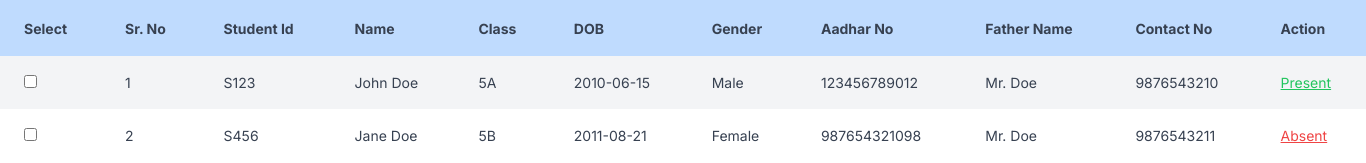
Test case: Attendancetable Component › toggles attendance status when button is clicked
Click to change the "Present" to "Absent" for the first student
Click the button "Present": (1306, 82) [1281,72,1331,93]
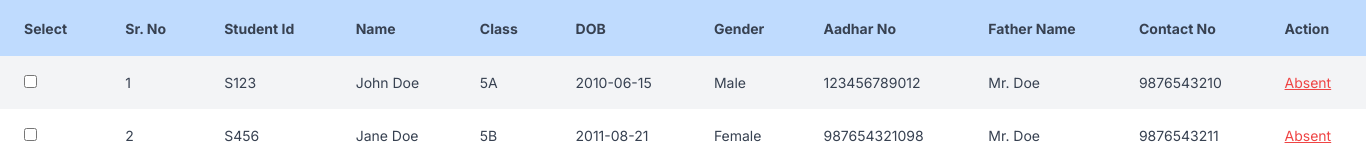
Check: the button "Present" in the row of "S123" reads "Absent", box [1284,72,1331,93]
Click to change the "Absent" to "Present" for the second student
Click the button "Absent" in the row of "S456": (1308, 136) [1284,125,1331,146]
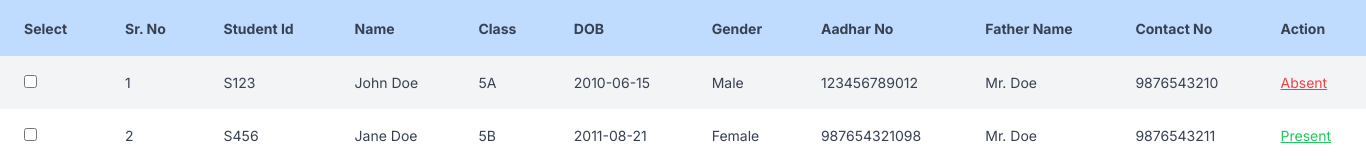
Check: the button "Absent" reads "Present", box [1281,125,1331,146]
